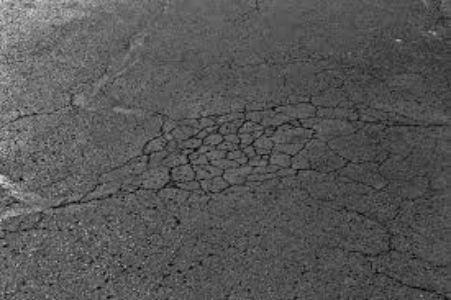alligator-crack: (138, 103, 330, 195)
crack: (267, 48, 386, 101), (341, 138, 433, 205), (41, 156, 123, 227), (316, 108, 451, 132), (4, 91, 80, 126), (225, 2, 247, 111), (44, 181, 116, 214), (383, 268, 450, 300), (334, 205, 396, 232), (348, 245, 400, 259)
